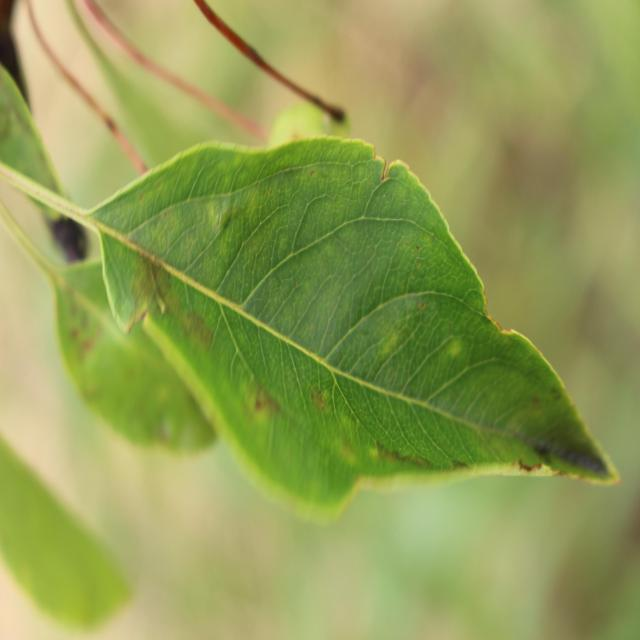scab: (516, 368, 610, 493), (122, 242, 222, 356), (366, 430, 474, 482), (238, 364, 299, 433)
